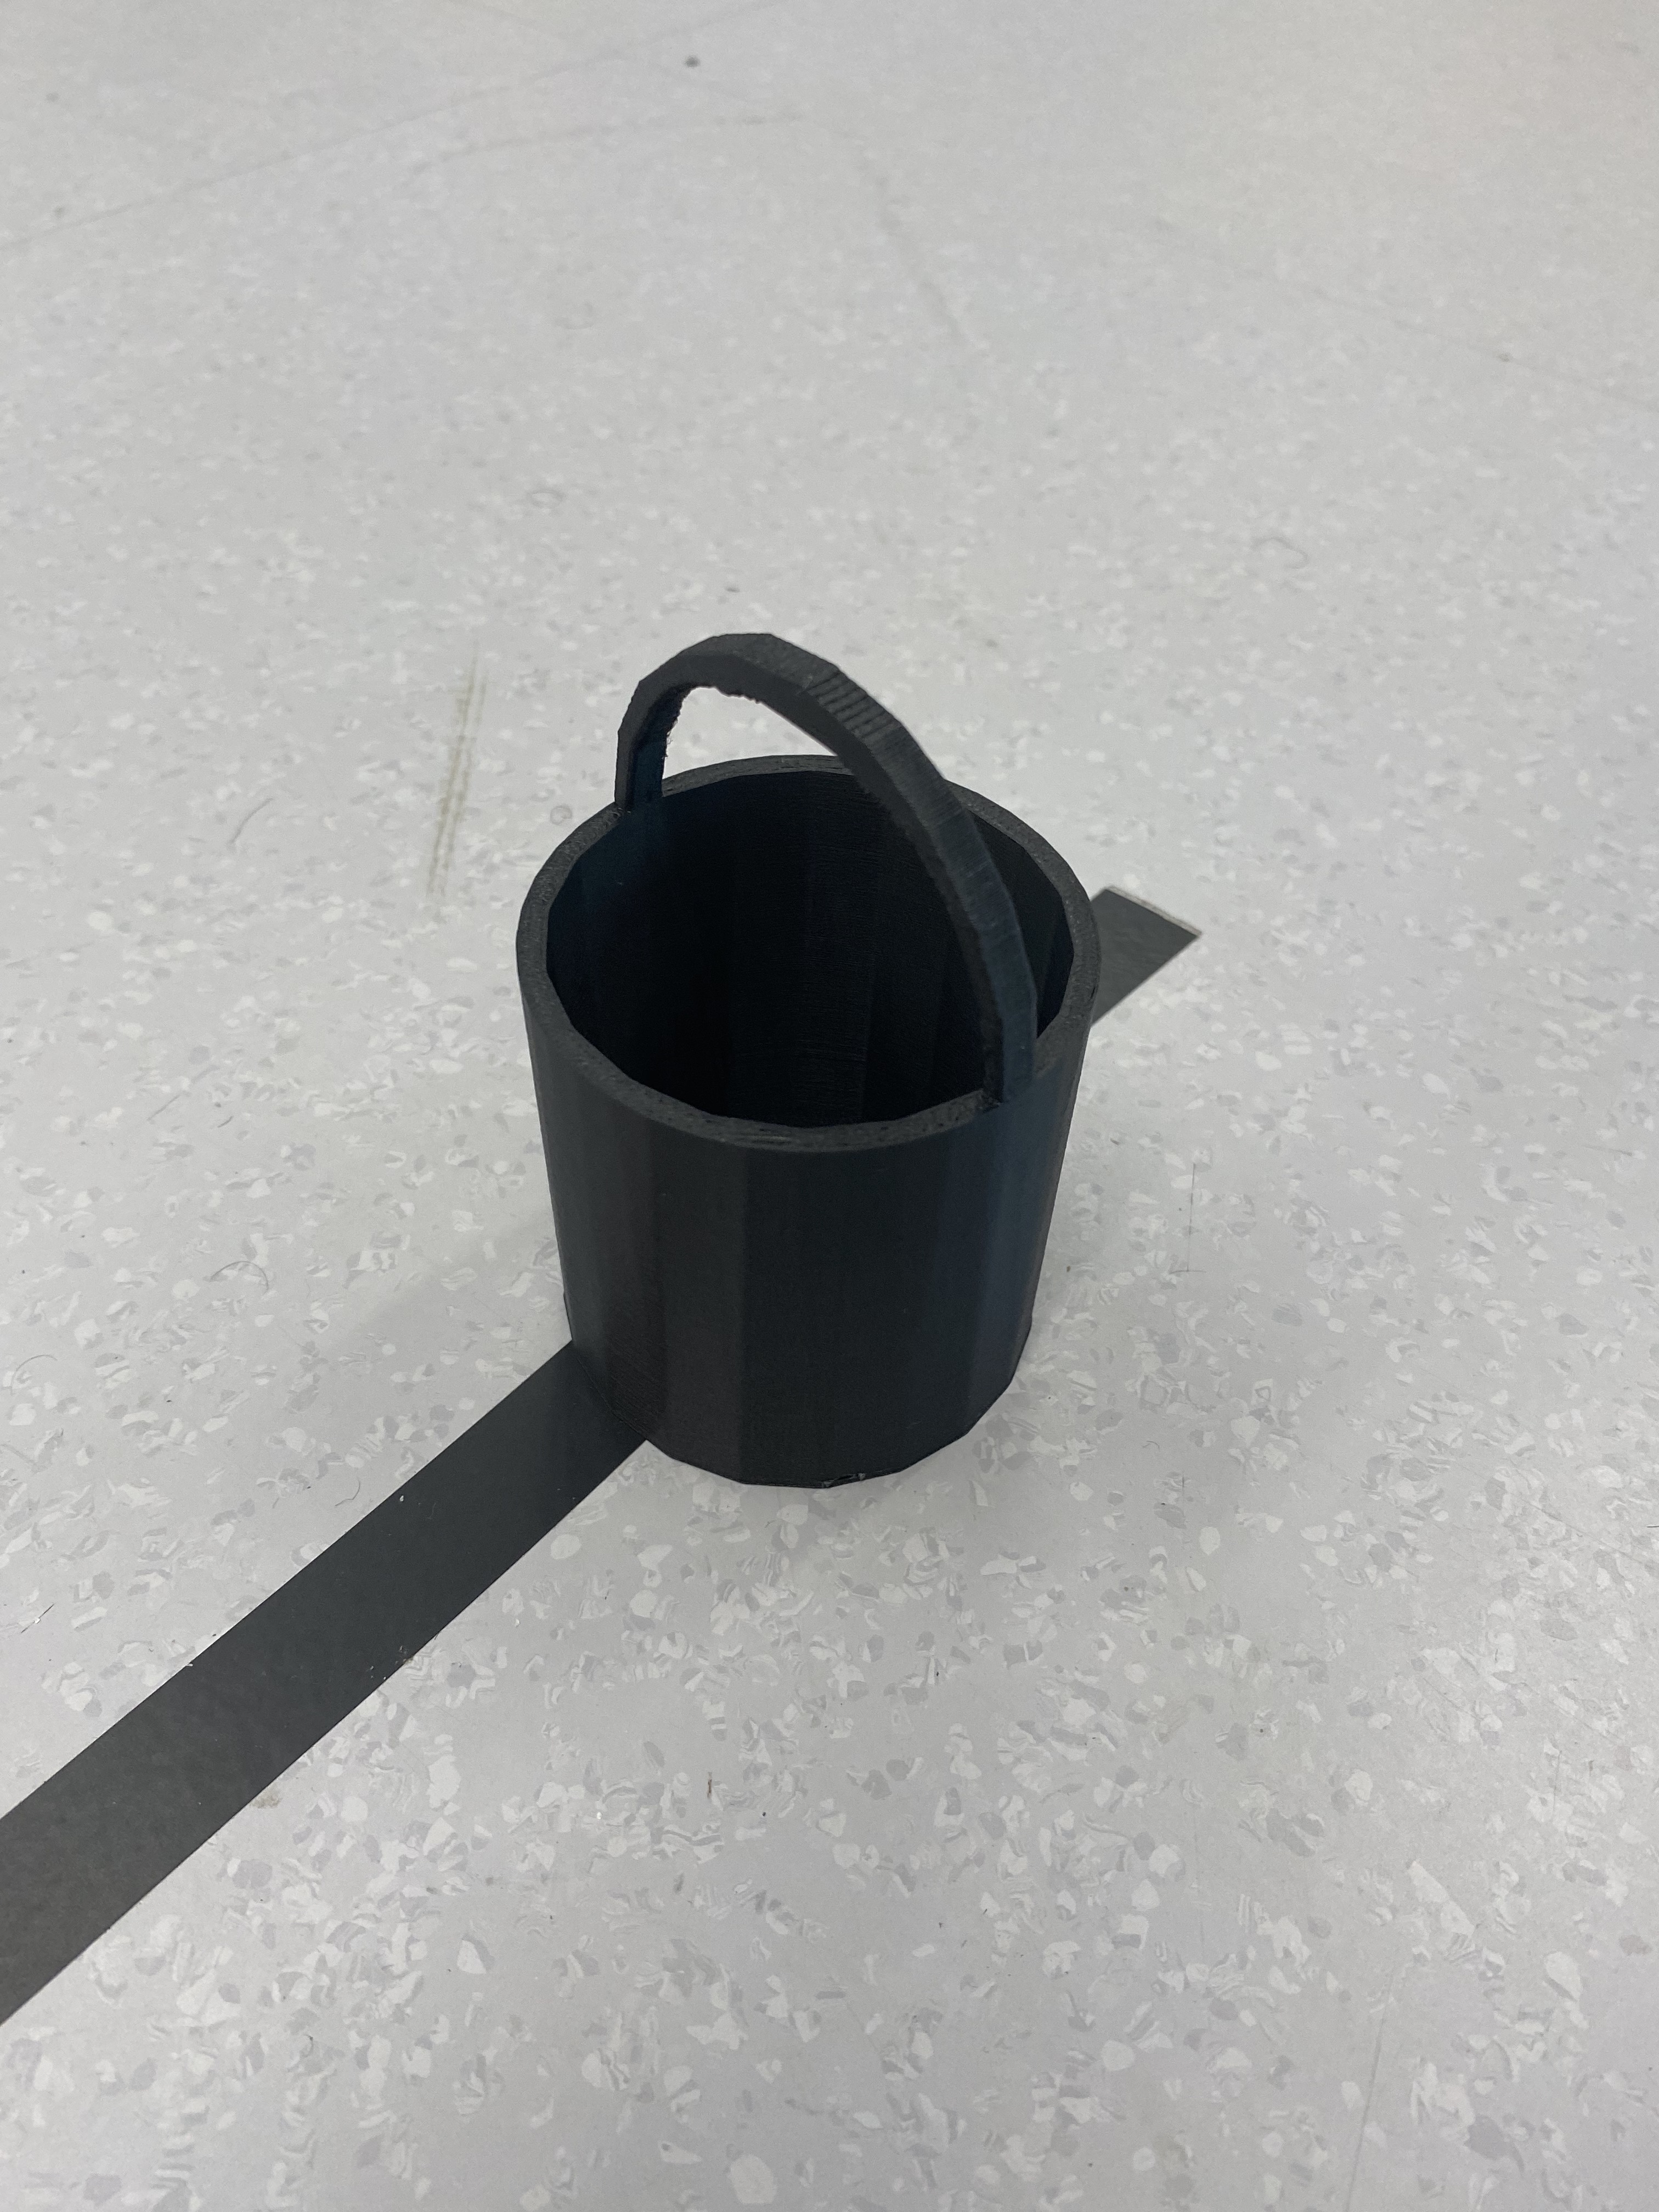bag: (502, 611, 1107, 1501)
